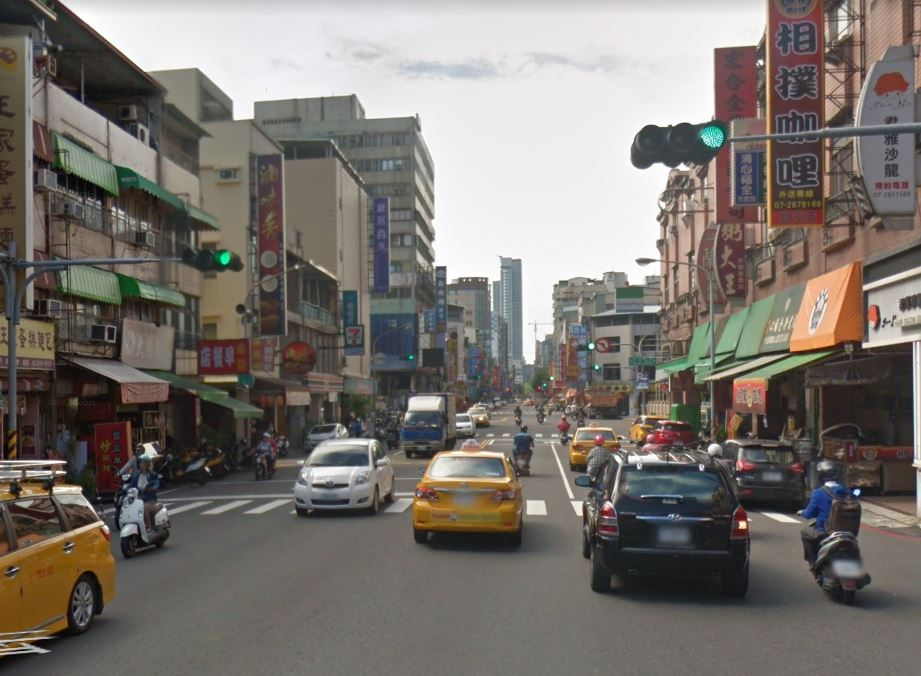Traffic_light_green: (629, 124, 728, 169), (182, 247, 246, 276)
car: (576, 448, 758, 601), (412, 441, 528, 552), (291, 433, 401, 521)
motorcycle: (797, 489, 878, 604), (116, 481, 173, 560)
